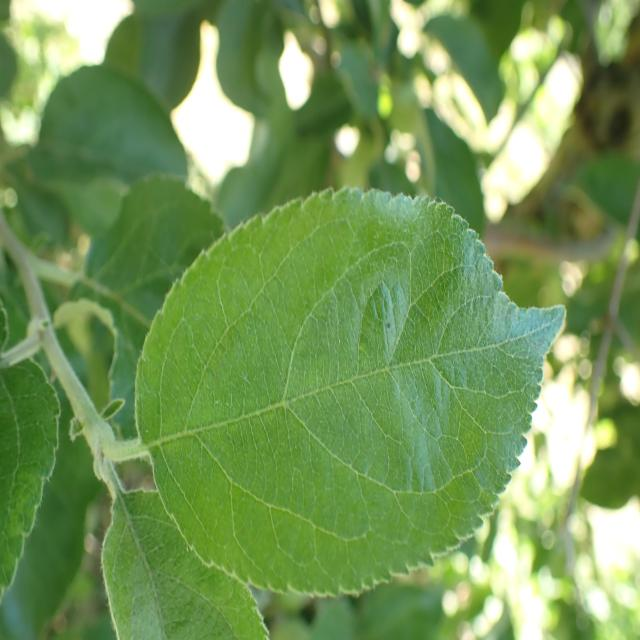healthy: (134, 186, 567, 597), (100, 487, 270, 640), (0, 298, 61, 598)
